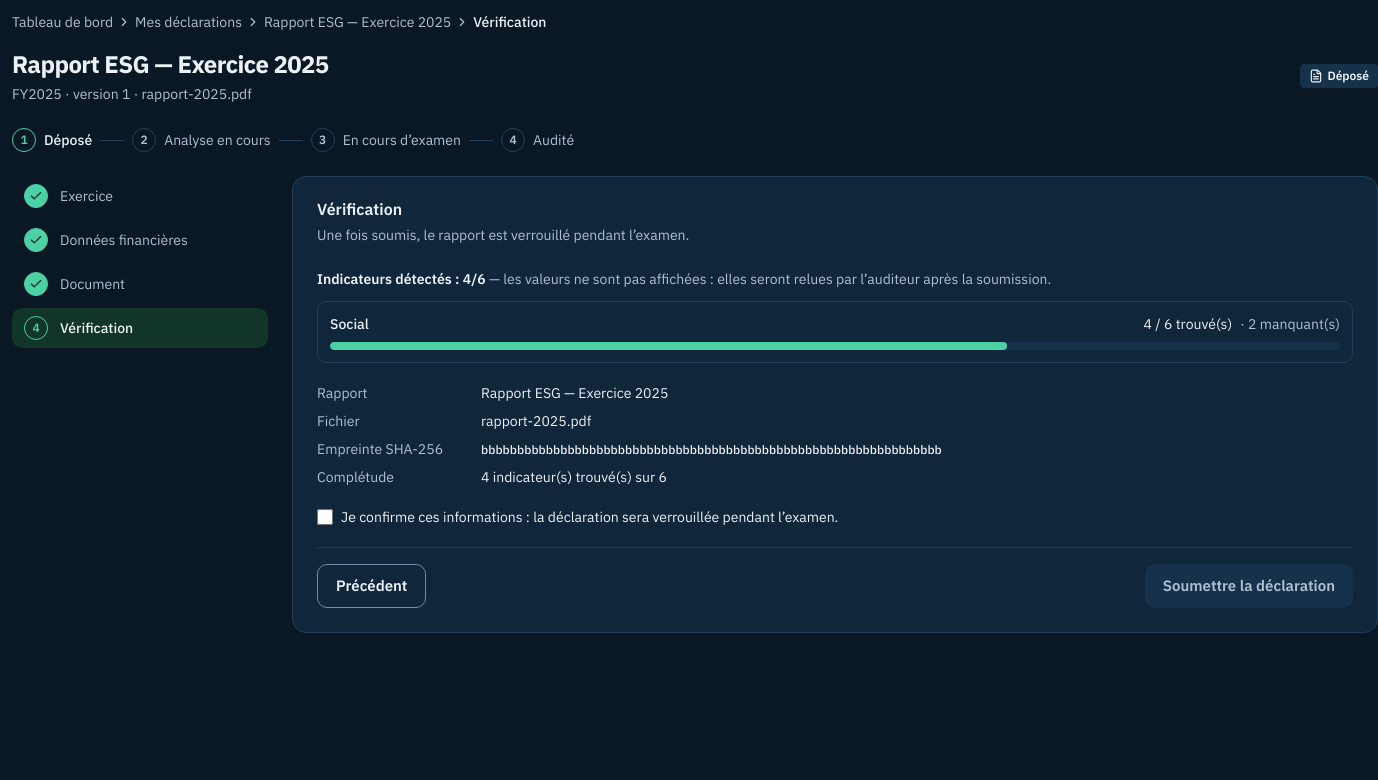
Brouillon — document puis vérification › reprise : un brouillon prêt ouvre la vérification ; soumission puis reçu
Expected: the element named "Liste de complétude" shows "4/6", [317,269,1353,363]
Expected: the button "Soumettre la déclaration" is disabled, [1145,564,1353,608]
Click the checkbox labelled "verrouillée": [325, 517] box [317,509,333,525]
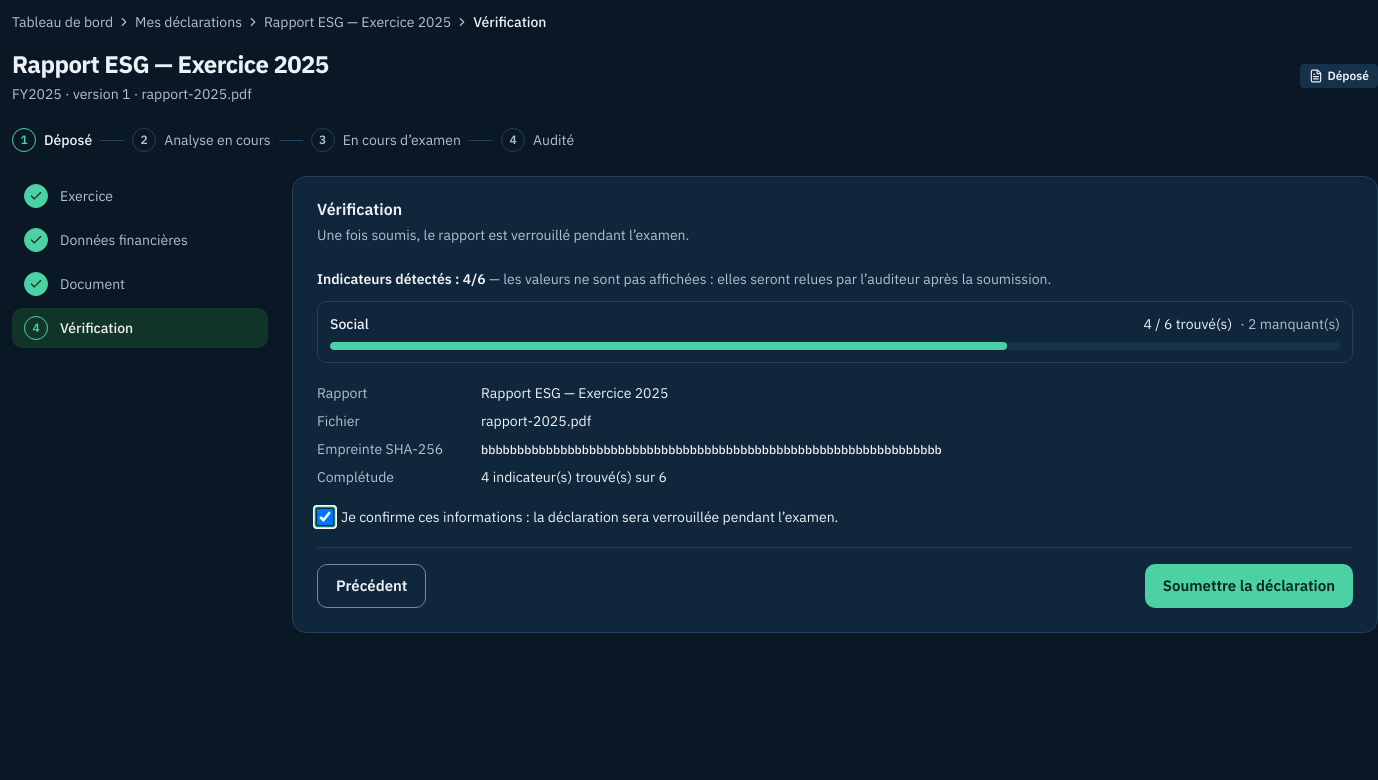
Click the button "Soumettre la déclaration": [1249, 586] box [1145,564,1353,608]
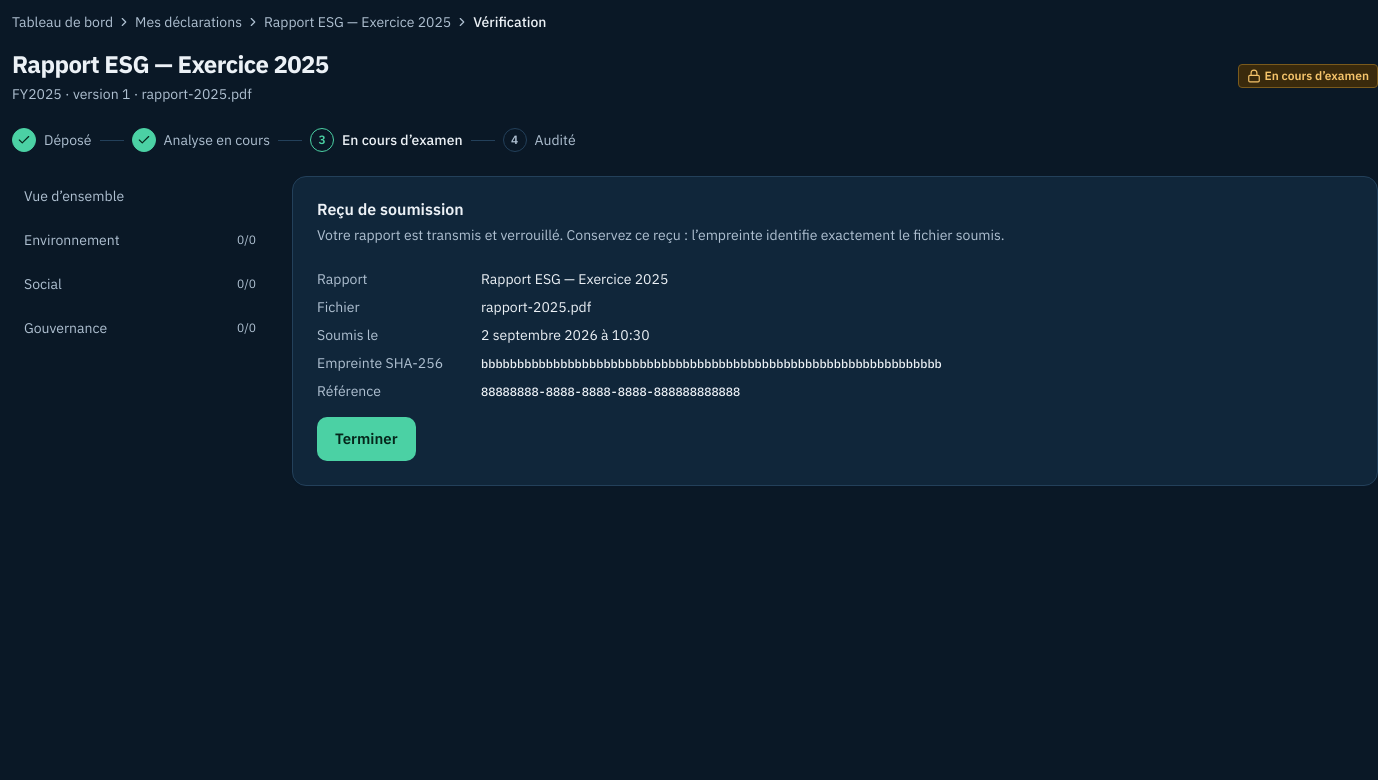
Now the navigation bar named "Sections de la déclaration" is shown, box [24,187,256,337]
Now the element "Reçu de soumission" is shown, box [292,176,1377,486]
